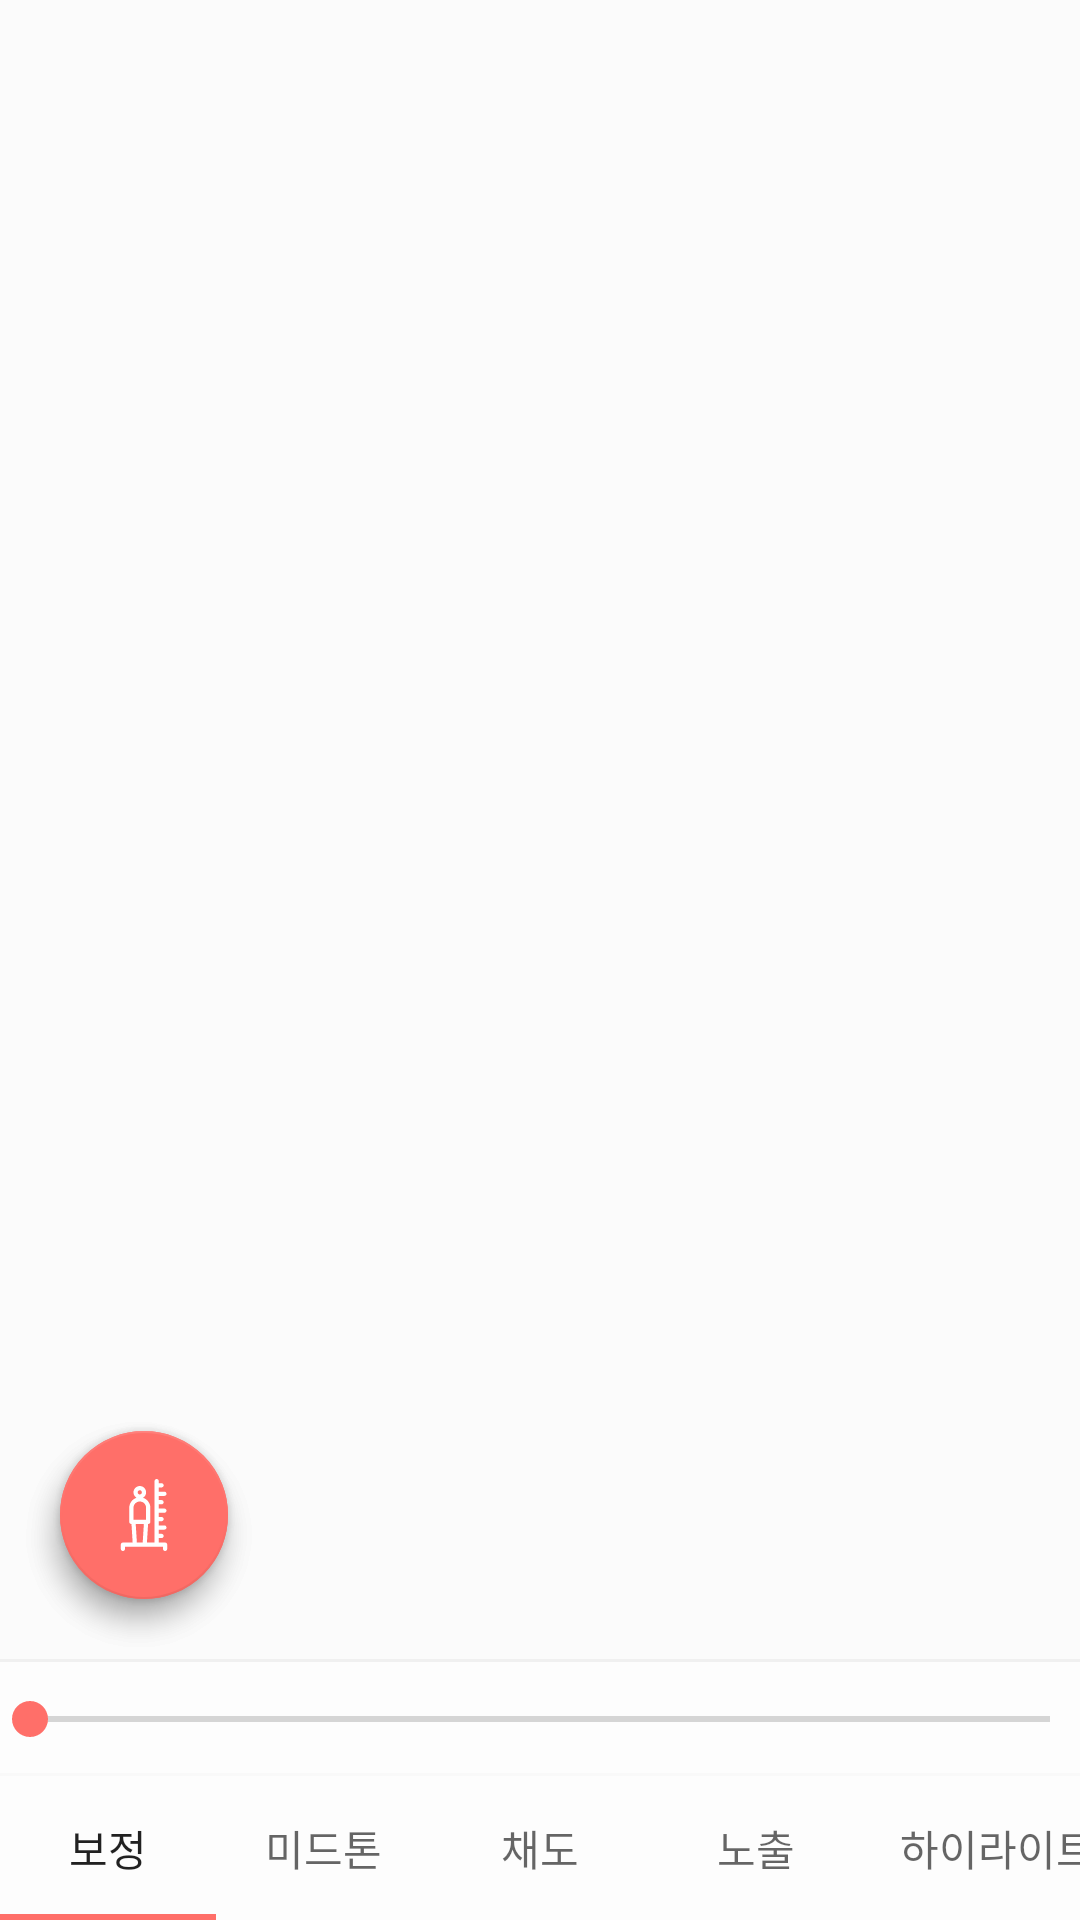

Named icons in this screenshot (1080px×1920px) and their bounding boxes, [x1, y1, x2, y2]:
height: [60, 1431, 228, 1599]
